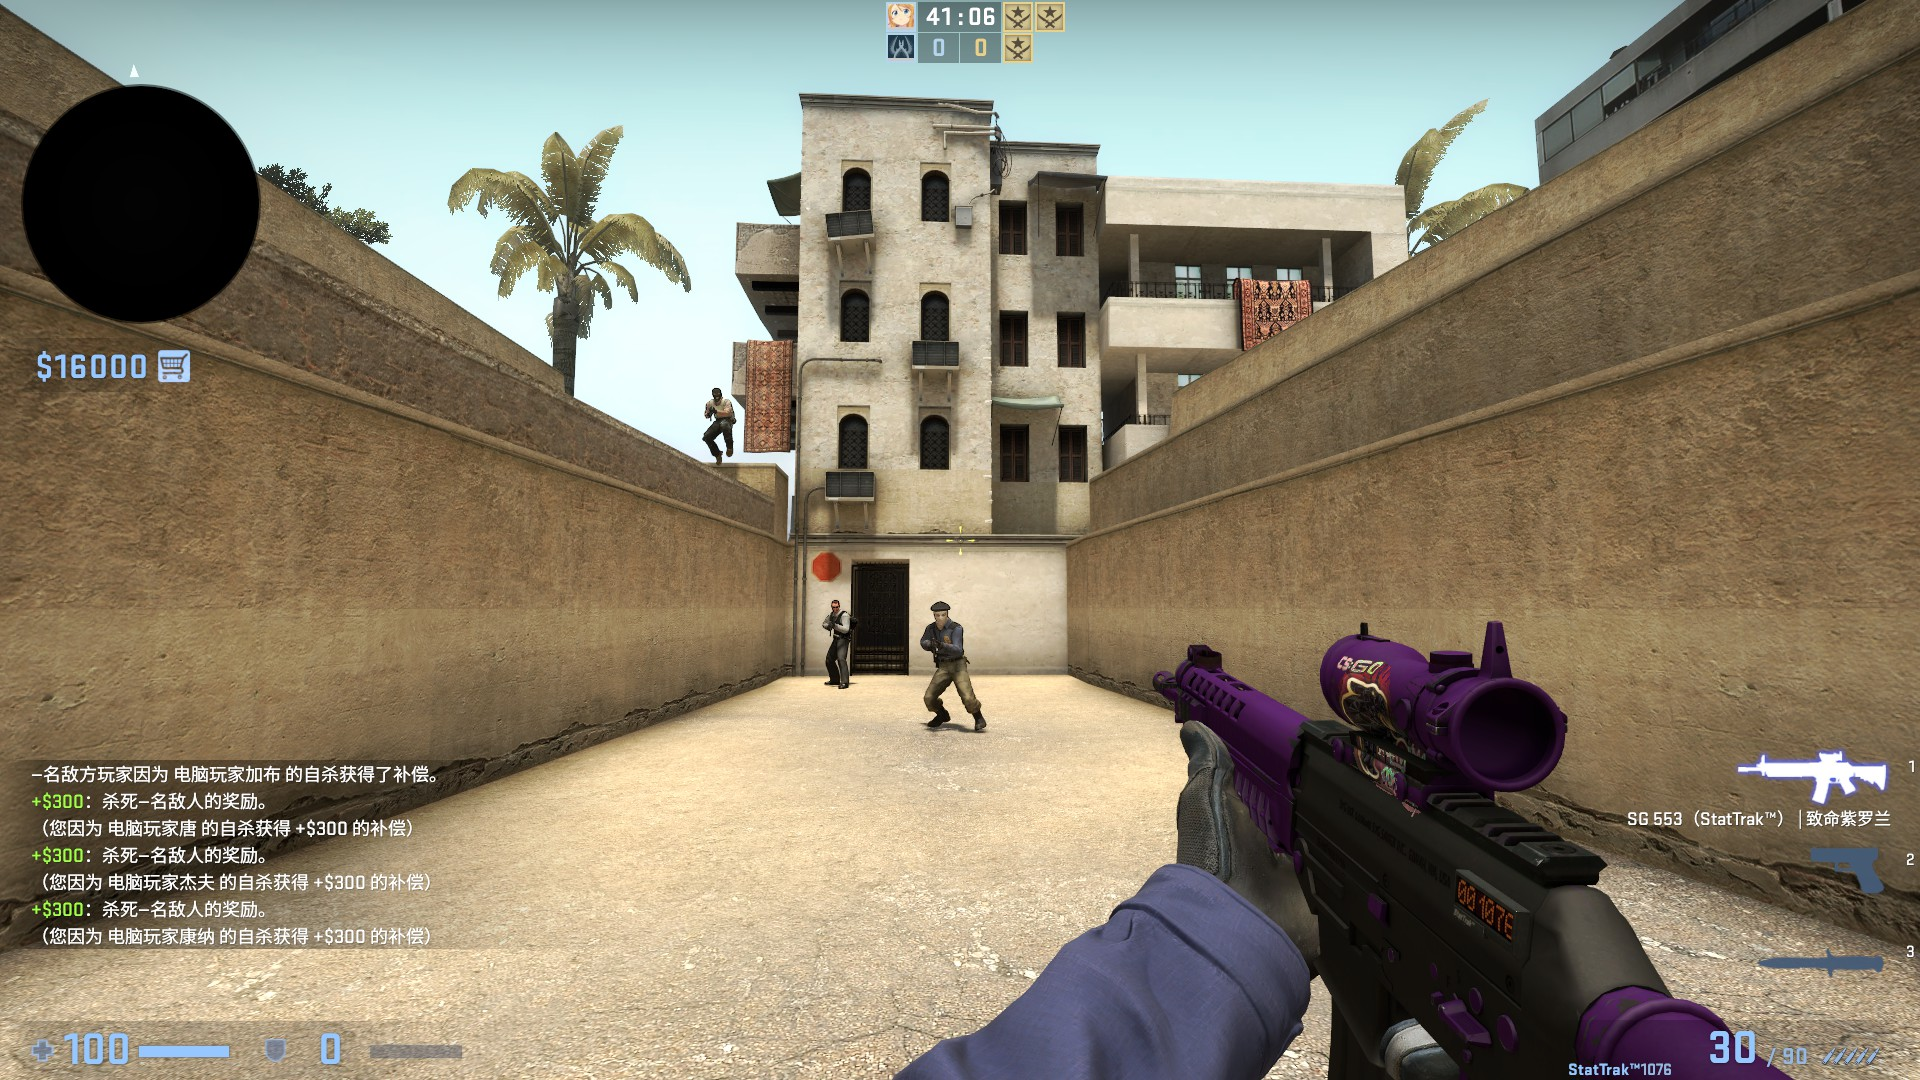head: (928, 600, 950, 626), (826, 598, 841, 612), (709, 386, 722, 402)
